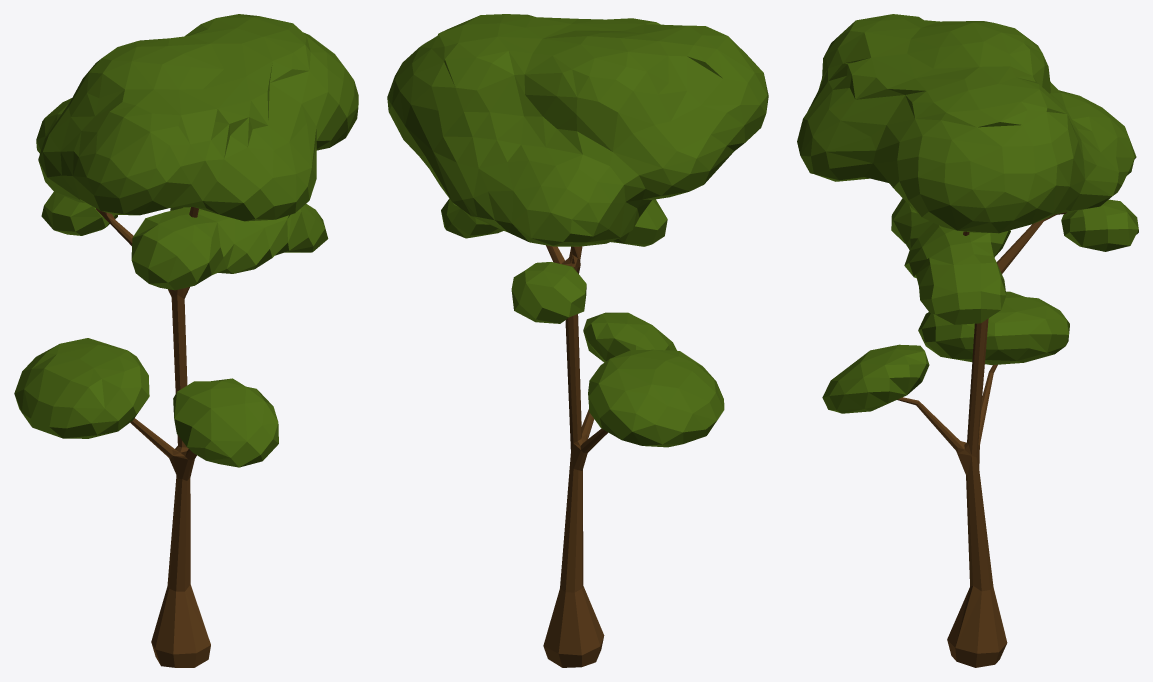
File: Tree_Varient_1_v003.fbx
3 views of the same model, side by side, from view 1: azimuth 30°, elevation 25°; view 2: azimuth 150°, elevation 25°; view 3: azimuth 270°, elevation 25° (orthographic).
Visible parts, largest first — view 1: Tree; view 2: Tree; view 3: Tree.
Part boxes in pixels (<box>): Tree: <box>14,14,358,667</box>; Tree: <box>387,14,768,667</box>; Tree: <box>797,14,1138,667</box>.
Bounding box in the file's own units: 346 × 650 × 327.
